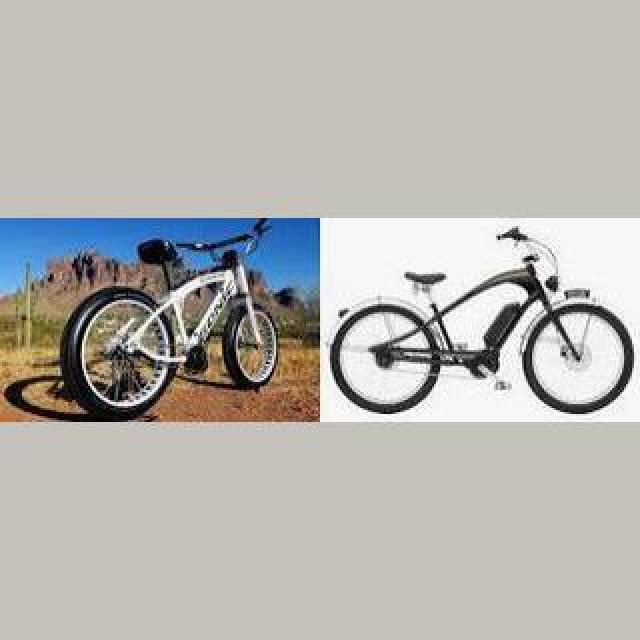Person: (330, 223, 634, 413), (59, 218, 283, 418)
